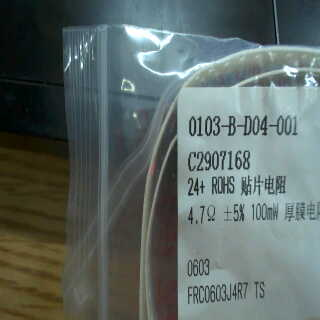4.7R: (182, 199, 218, 233)
